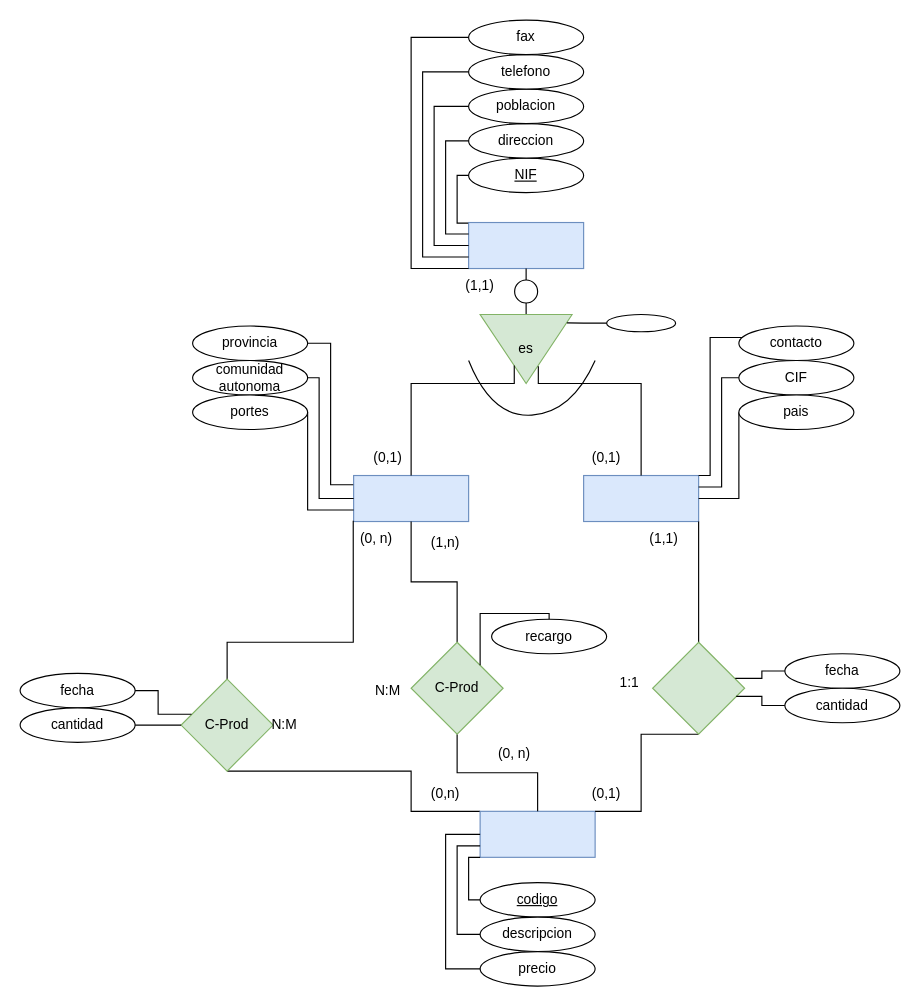
The diagram is 920 pixels wide and 1006 high, and some of its shapes have lost their labels. The shapes that lost their labels are listed below. From the top down, each one's centre as x and y in pixels, then its label:
At (x=525, y=245): "Empresa".
At (x=640, y=322): "tipo".
At (x=410, y=498): "Cliente".
At (x=640, y=498): "Proveedor".
At (x=698, y=687): "Prov-Prod".
At (x=537, y=833): "Producto".
